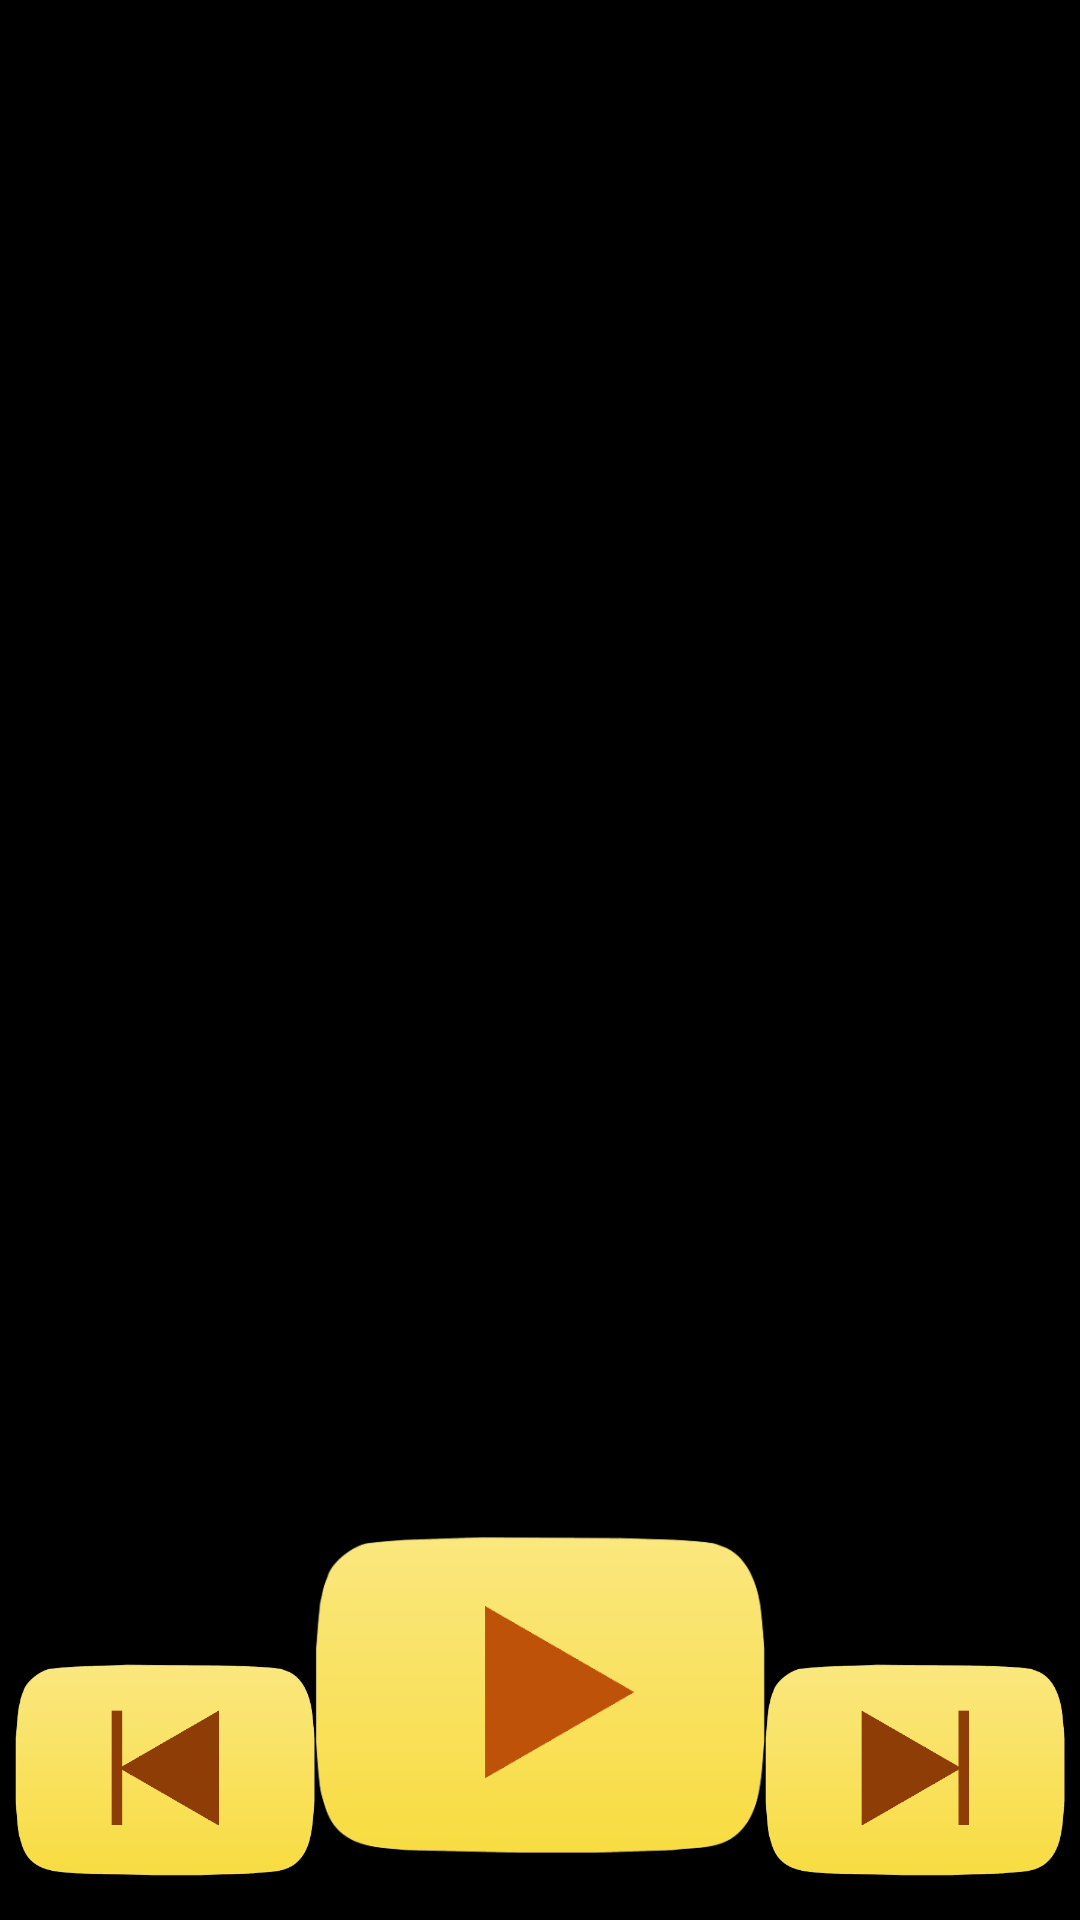

Where icons sit on this 1080x1920 app screen, as Rect(x1, y1, x2, y2):
next: Rect(765, 1664, 1065, 1876)
prev: Rect(15, 1664, 315, 1876)
